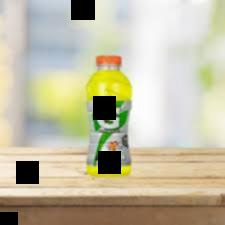gatorade_lemon: (83, 54, 133, 177)
